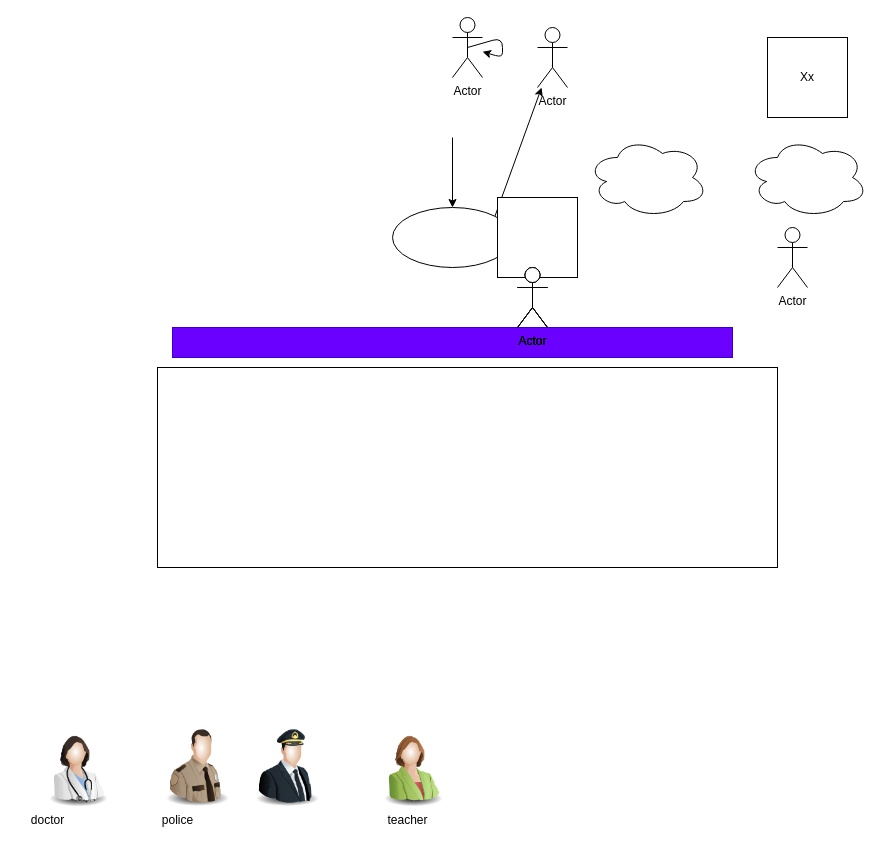
Some shapes in this 885 by 853 pixel diagram are drawn without their labels. The shapes that lost their labels are listed below. From the top down, each one's box as (x1, y1, x2, y2) in pixels, then its label:
(172, 326, 732, 358): Text
(247, 727, 327, 807): airforce
